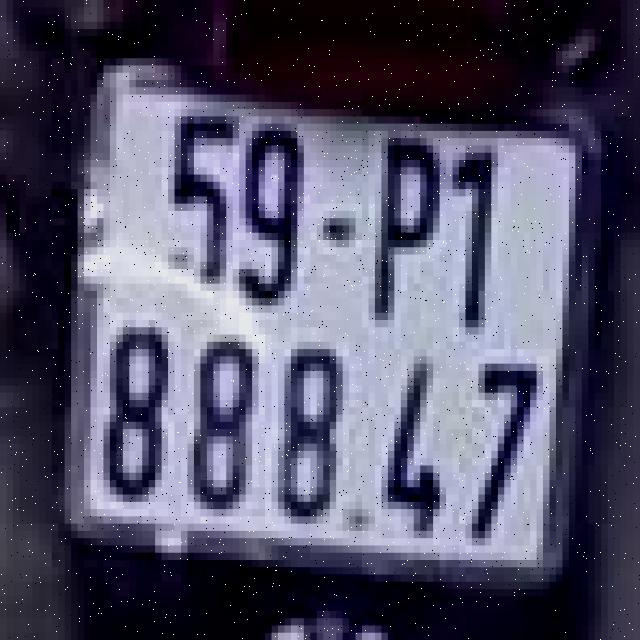1: (439, 134, 524, 346)
4: (378, 349, 456, 538)
5: (155, 106, 233, 309)
7: (462, 346, 546, 549)
8: (91, 316, 181, 513), (181, 328, 265, 516), (272, 331, 342, 527)
9: (239, 113, 310, 316)
P: (369, 127, 446, 353)
